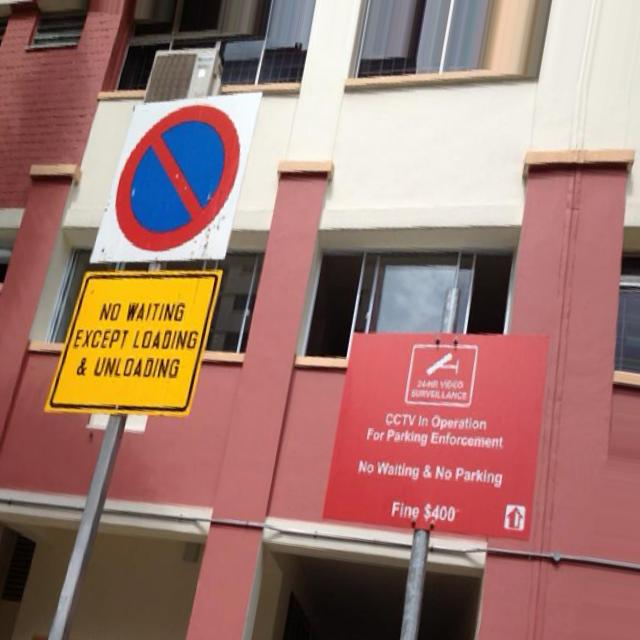forb_stopping: (115, 106, 242, 254)
